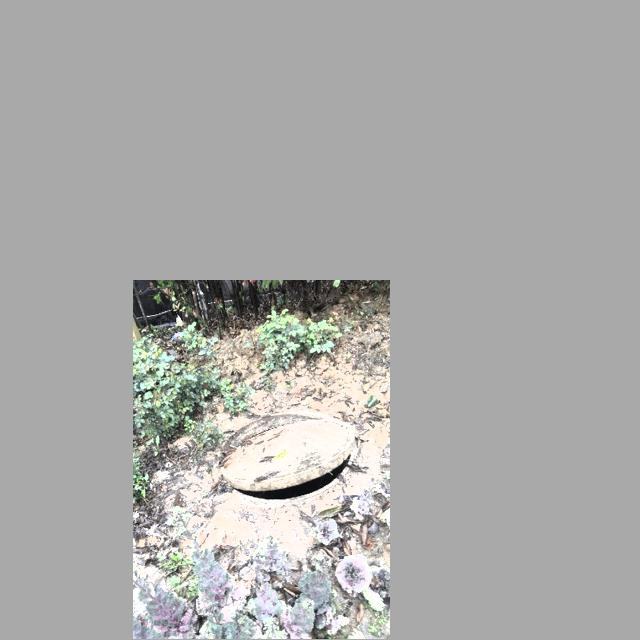uncovered: (217, 411, 355, 506)
